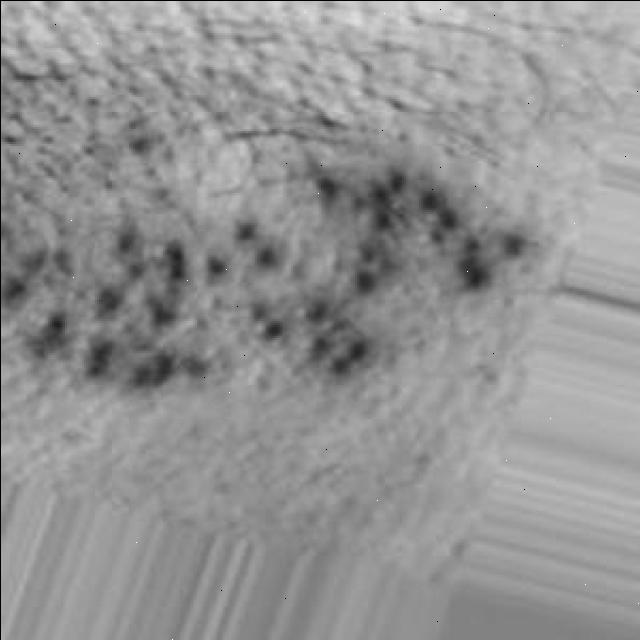Shingles: (0, 166, 531, 393)
